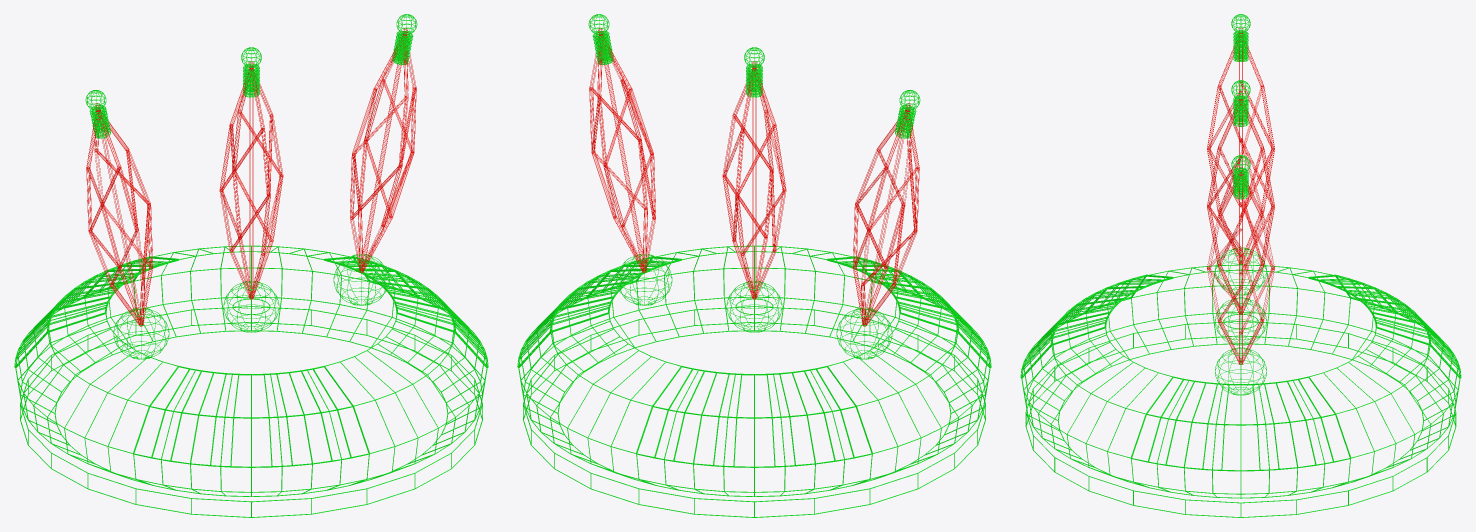
Rendered from screen-generator-highlight-three-field-masts.glb.
The picture shows the model from 3 angles, left to right: view 1: azimuth 30°, elevation 25°; view 2: azimuth 150°, elevation 25°; view 3: azimuth 270°, elevation 25°; orthographic projection. The views are drawn at different scales.
Parts seen in each view (by area): view 1: chassis technical wire, three-field-masts technical wire, phase-synchronising-oscillators technical wire, reverse-polarity-suppressers technical wire; view 2: chassis technical wire, three-field-masts technical wire, phase-synchronising-oscillators technical wire, reverse-polarity-suppressers technical wire; view 3: chassis technical wire, three-field-masts technical wire, phase-synchronising-oscillators technical wire, reverse-polarity-suppressers technical wire.
Part boxes in pixels (x1=…): chassis technical wire: x1=14, y1=245, x2=488, y2=517; three-field-masts technical wire: x1=86, y1=28, x2=416, y2=326; phase-synchronising-oscillators technical wire: x1=113, y1=254, x2=389, y2=359; reverse-polarity-suppressers technical wire: x1=85, y1=14, x2=417, y2=138; chassis technical wire: x1=517, y1=245, x2=991, y2=517; three-field-masts technical wire: x1=589, y1=28, x2=919, y2=326; phase-synchronising-oscillators technical wire: x1=616, y1=254, x2=892, y2=359; reverse-polarity-suppressers technical wire: x1=588, y1=14, x2=920, y2=138; chassis technical wire: x1=1020, y1=264, x2=1461, y2=517; three-field-masts technical wire: x1=1207, y1=28, x2=1274, y2=364; phase-synchronising-oscillators technical wire: x1=1215, y1=247, x2=1266, y2=395; reverse-polarity-suppressers technical wire: x1=1231, y1=14, x2=1250, y2=199.
Bounding box in the file's own units: 2.05 × 1.78 × 2.05.
